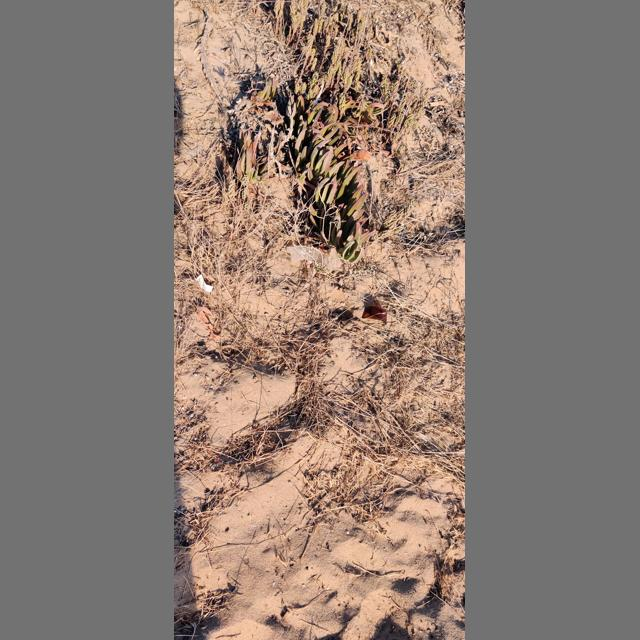litter: (287, 247, 342, 272), (362, 306, 387, 325), (197, 274, 214, 292), (383, 240, 394, 256), (351, 327, 362, 333)
